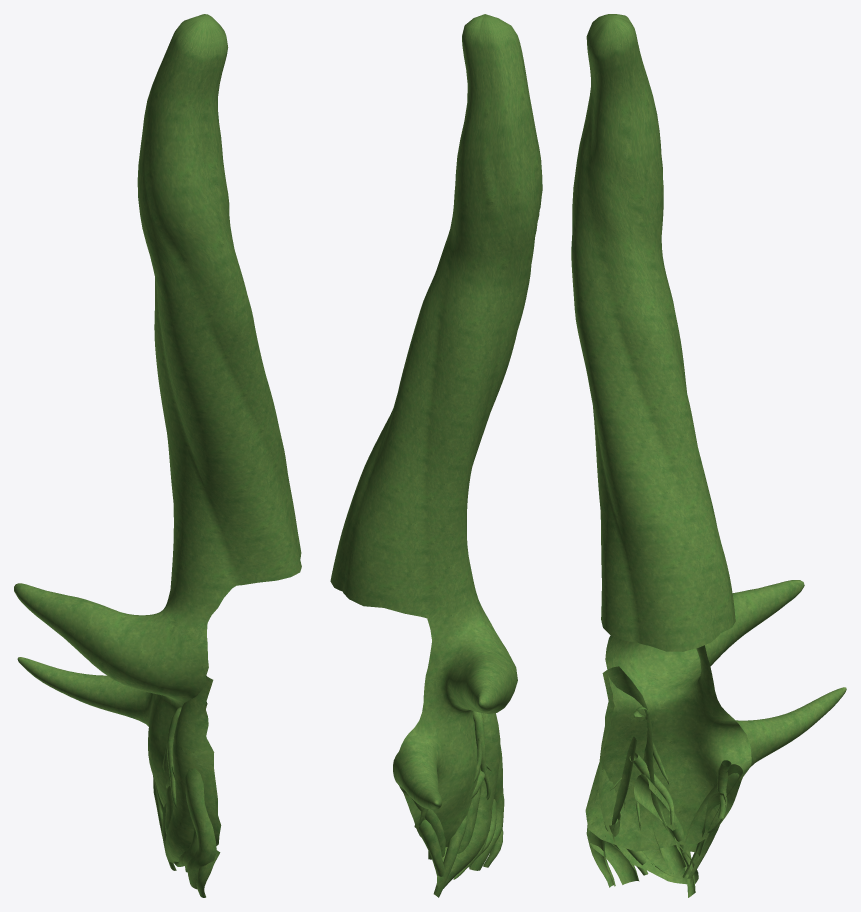
The model's file is SM_ENV_KNFRST_LargeTree_D.FBX.
3 views of the same model, side by side, from view 1: azimuth 30°, elevation 25°; view 2: azimuth 150°, elevation 25°; view 3: azimuth 270°, elevation 25° (orthographic). The views are drawn at different scales.
Visible parts, largest first — view 1: SM_ENV_KNFRST_LargeTree_D; view 2: SM_ENV_KNFRST_LargeTree_D; view 3: SM_ENV_KNFRST_LargeTree_D.
Part boxes in pixels (x1,y1,x2,y2): SM_ENV_KNFRST_LargeTree_D: [14, 14, 301, 897]; SM_ENV_KNFRST_LargeTree_D: [330, 14, 542, 897]; SM_ENV_KNFRST_LargeTree_D: [571, 14, 846, 897].
Bounding box in the file's own units: 2249 × 8693 × 2472.
